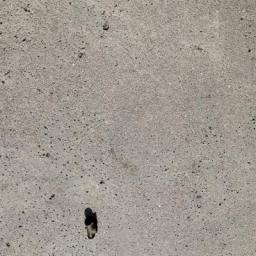FOD: (84, 206, 103, 240)
